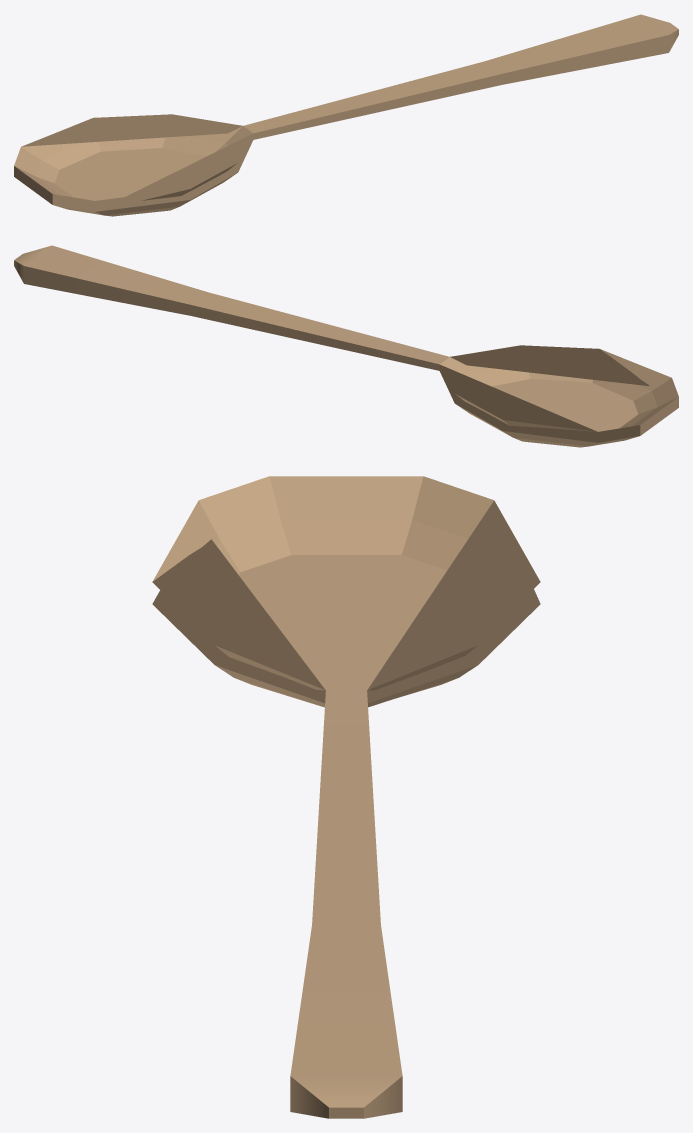
File: kuwait.fbx
3 views of the same model, one above another, from view 1: azimuth 30°, elevation 25°; view 2: azimuth 150°, elevation 25°; view 3: azimuth 270°, elevation 25° (orthographic). The views are drawn at different scales.
Parts seen in each view (by area): view 1: kuwait; view 2: kuwait; view 3: kuwait.
Part boxes in pixels (bbox=[...]): kuwait: bbox=[14, 14, 678, 216]; kuwait: bbox=[14, 245, 678, 447]; kuwait: bbox=[152, 476, 540, 1118].
Bounding box in the file's own units: 5.44 × 0.2727 × 1.43.
